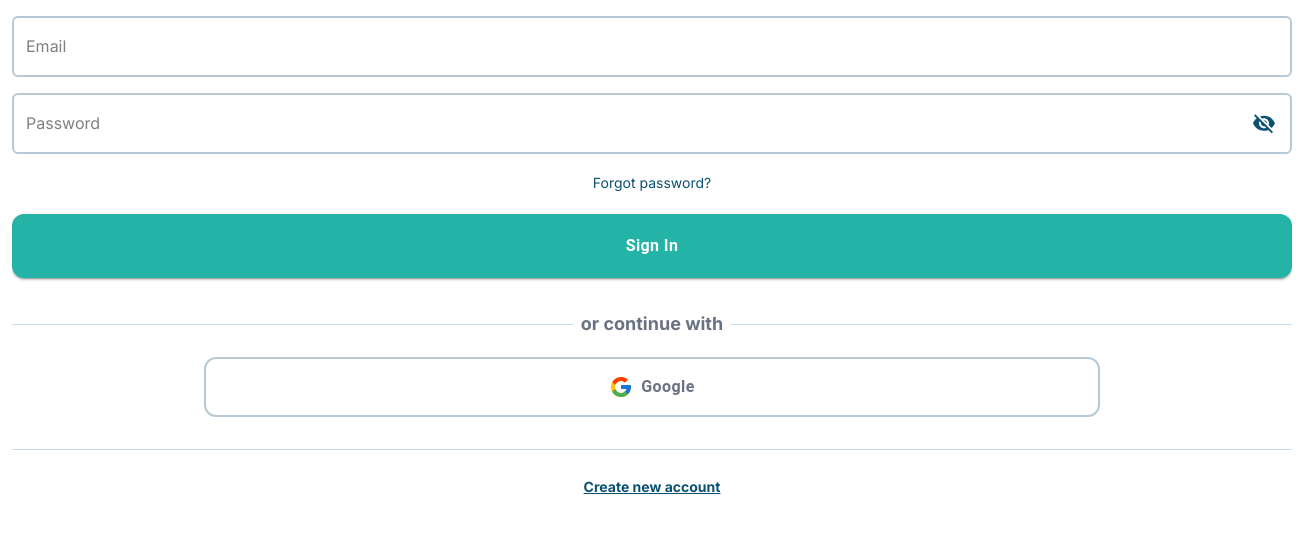
it: SignInForm Component › Sign In Flow › shows error when sign in fails due to network error
Type "test@example.com" into the field with placeholder "Email".
click(652, 46); type("test@example.com")  # box [12,16,1292,77]
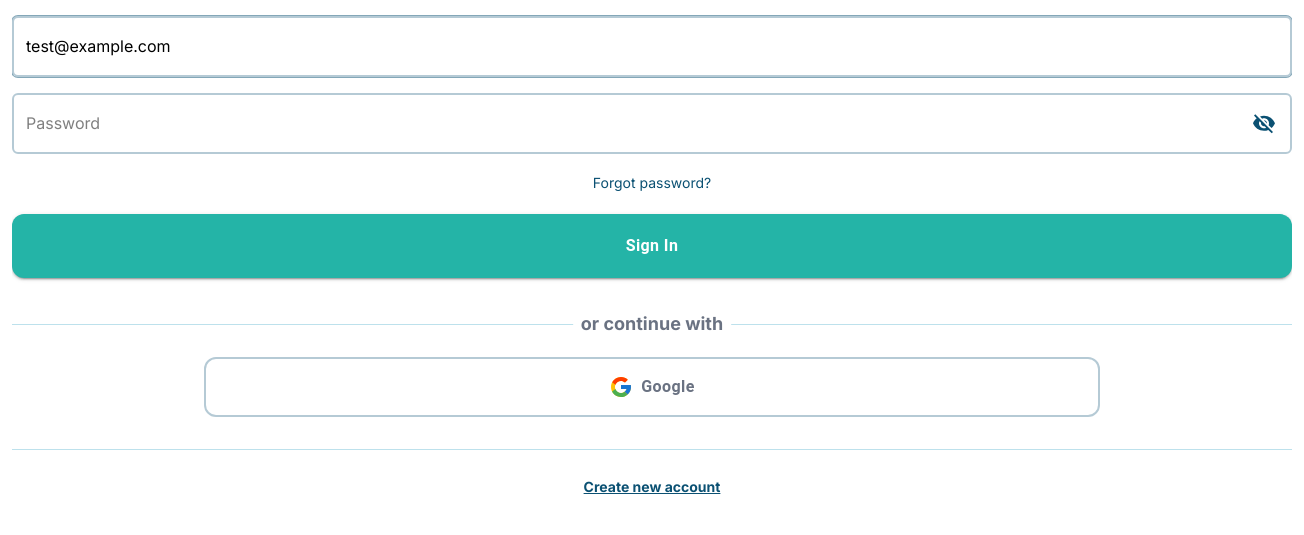
Type "password123" into the password field with placeholder "Password".
click(652, 123); type("password123")  # box [12,93,1292,154]
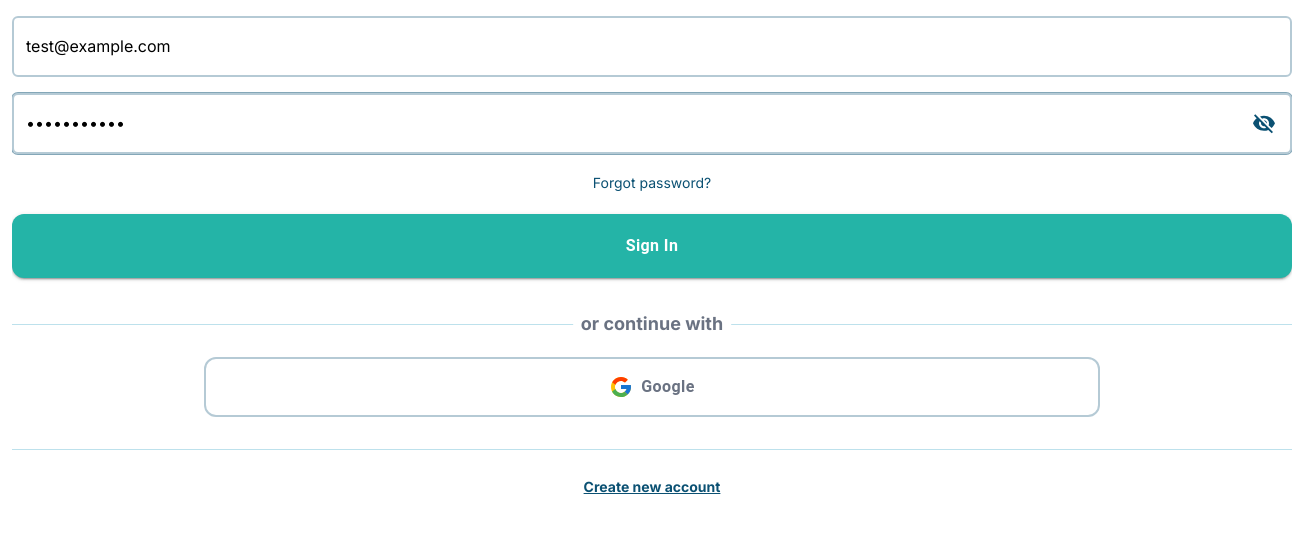
Click the button "Sign In".
click(652, 246)  # box [12,214,1292,278]
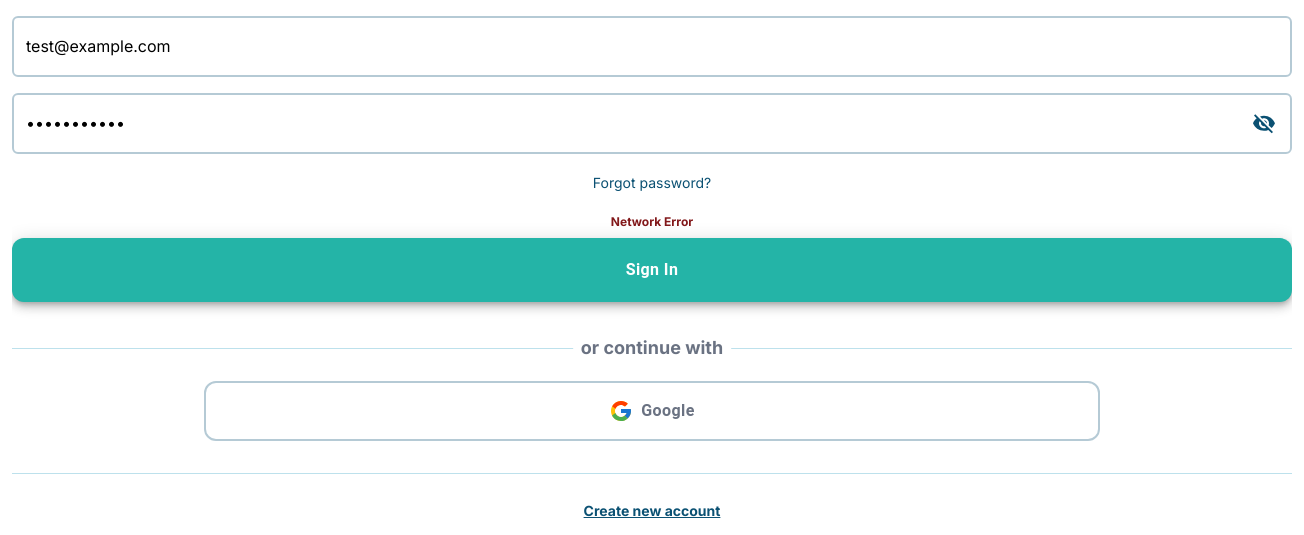
Now the text "Network Error" is shown, box [611,214,693,229]
